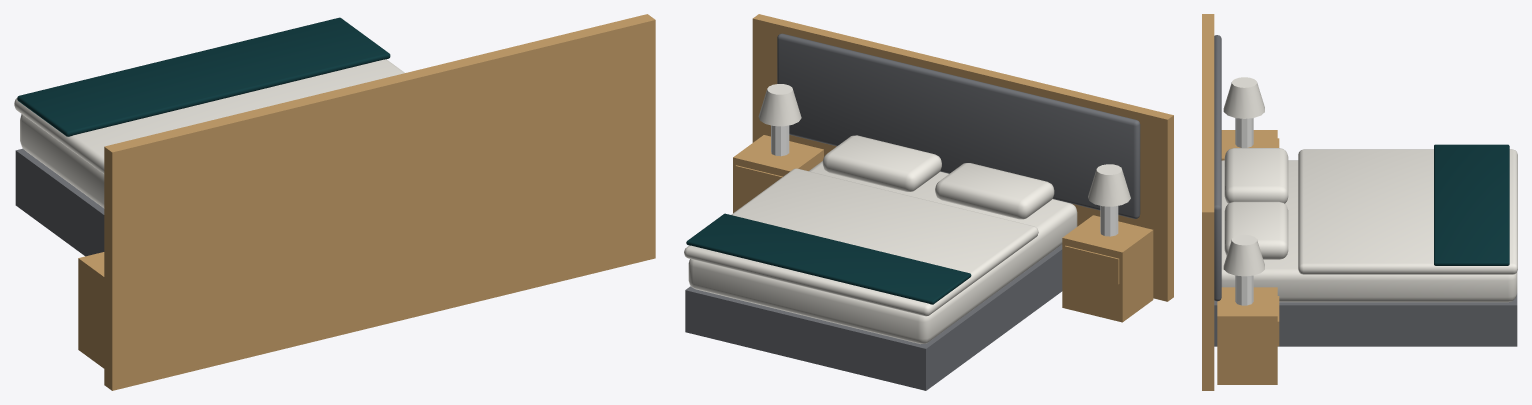
The model's file is hospitality.hotel.bed_king.glb.
The picture shows the model from 3 angles, left to right: view 1: azimuth 30°, elevation 25°; view 2: azimuth 150°, elevation 25°; view 3: azimuth 270°, elevation 25°; orthographic projection. The views are drawn at different scales.
Parts seen in each view (by area): view 1: bed__glulam, bed__velvet_teal, bed__fabric_white, bed__fabric_grey, bedside__glulam; view 2: bed__fabric_grey, bed__fabric_white, bed__glulam, bedside__glulam, bed__velvet_teal, bedside__fabric_white, bedside__ceramic; view 3: bed__fabric_white, bed__fabric_grey, bed__velvet_teal, bedside__glulam, bed__glulam, bedside__fabric_white, bedside__ceramic.
Boxes of the visible parts, x1,y1,x2,y2 form: bed__glulam: (104,14,655,390); bed__velvet_teal: (17,17,390,136); bed__fabric_white: (14,59,404,208); bed__fabric_grey: (15,148,104,256); bedside__glulam: (78,252,104,368); bed__fabric_grey: (685,33,1140,390); bed__fabric_white: (684,135,1077,344); bed__glulam: (752,14,1173,301); bedside__glulam: (733,135,1153,322); bed__velvet_teal: (686,213,971,304); bedside__fabric_white: (758,84,1130,206); bedside__ceramic: (771,125,1118,236); bed__fabric_white: (1221,148,1517,302); bed__fabric_grey: (1214,35,1517,346); bed__velvet_teal: (1434,144,1509,265); bedside__glulam: (1217,130,1279,384); bed__glulam: (1202,14,1214,390); bedside__fabric_white: (1223,77,1264,276); bedside__ceramic: (1235,118,1253,305).
Bounding box in the file's own units: 3.1 × 1.3 × 2.08.
